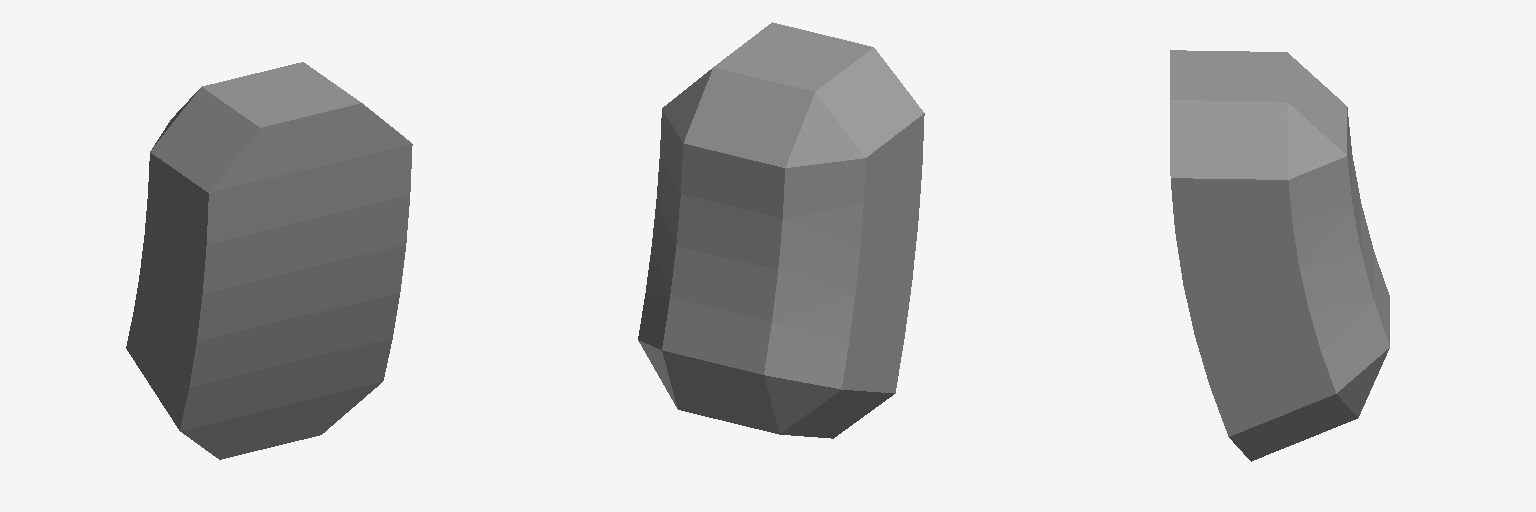
File: QuarterRing-Short.obj
The picture shows the model from 3 angles: view 1: azimuth 30°, elevation 25°; view 2: azimuth 150°, elevation 25°; view 3: azimuth 270°, elevation 25°; orthographic projection.
Parts seen in each view (by area): view 1: QuarterRing-Short; view 2: QuarterRing-Short; view 3: QuarterRing-Short.
Part boxes in pixels (x1,y1,x2,y2): QuarterRing-Short: (126,62,412,459); QuarterRing-Short: (638,22,924,438); QuarterRing-Short: (1170,50,1389,461).
Size of the model in its own units: 2 by 3.39 by 1.88.